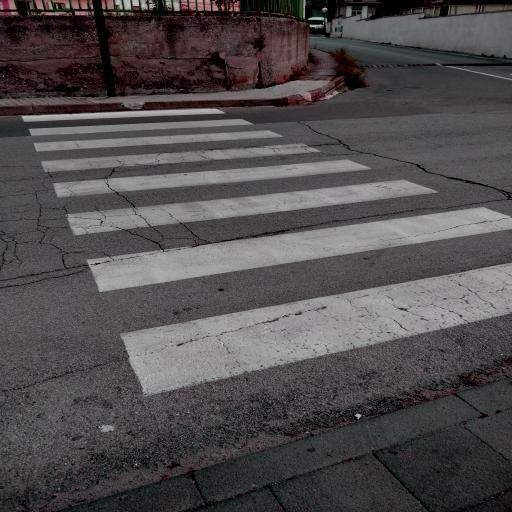crosswalk: (38, 156, 446, 244), (18, 105, 266, 140)
